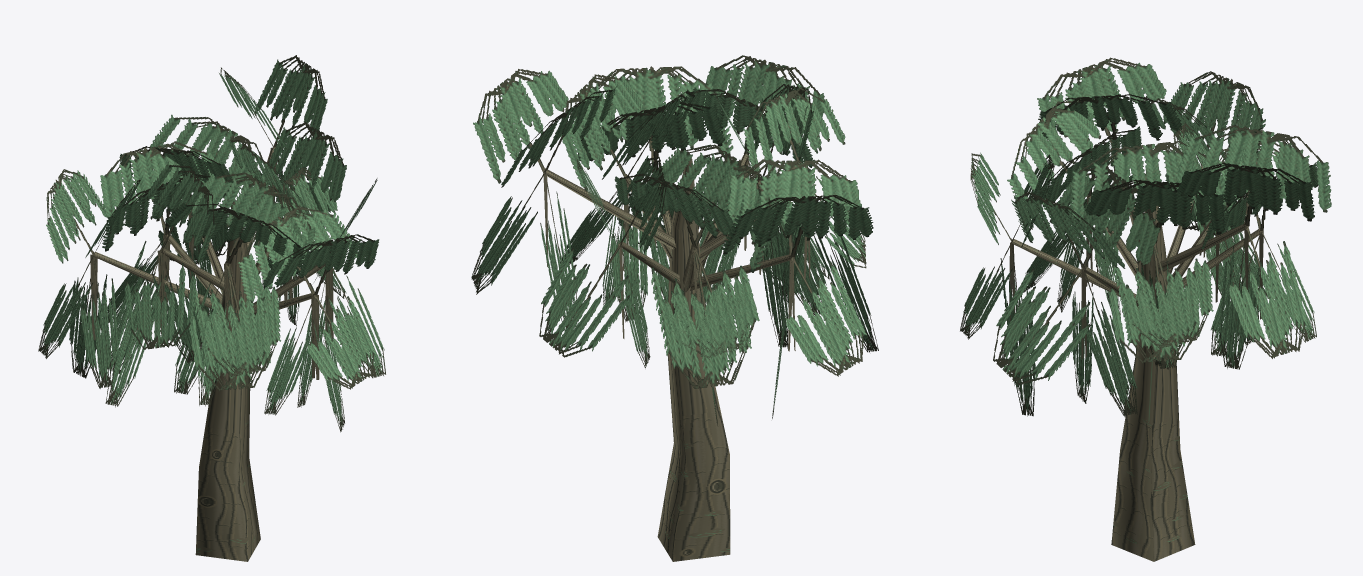
Rendered from marsh-willow-mobile.glb.
3 renders of one model, left to right at view 1: azimuth 30°, elevation 25°; view 2: azimuth 150°, elevation 25°; view 3: azimuth 270°, elevation 25°, orthographic. The views are drawn at different scales.
Visible parts, largest first — view 1: Marsh willow mobile v3 runtime; view 2: Marsh willow mobile v3 runtime; view 3: Marsh willow mobile v3 runtime.
Boxes of the visible parts, x1=… form: Marsh willow mobile v3 runtime: x1=38, y1=55, x2=385, y2=561; Marsh willow mobile v3 runtime: x1=471, y1=55, x2=878, y2=561; Marsh willow mobile v3 runtime: x1=960, y1=57, x2=1331, y2=561.
Size of the model in its own units: 7.28 by 8.54 by 6.69.
1 material, 1 textured.
